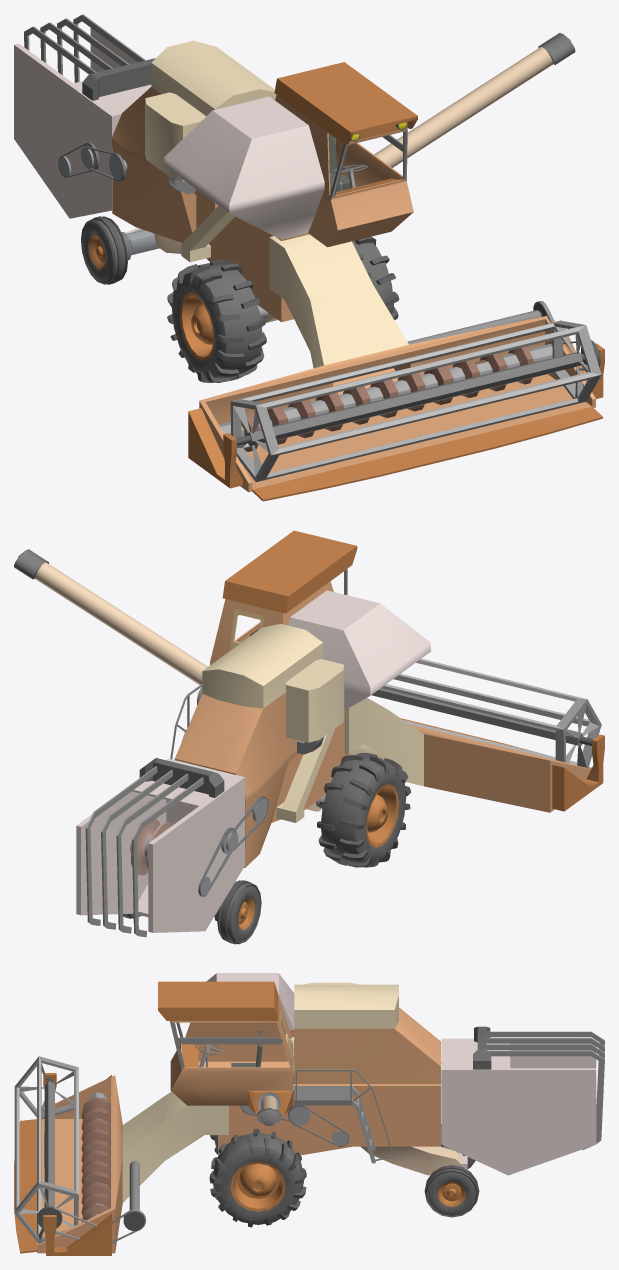
File: Harvester.gltf
The picture shows the model from 3 angles, top to bottom: view 1: azimuth 30°, elevation 25°; view 2: azimuth 150°, elevation 25°; view 3: azimuth 270°, elevation 25°; orthographic projection. The views are drawn at different scales.
Visible parts, largest first — view 1: body, wheel_4, wheel_5, wheel_32, wheel_64, wheel_2; view 2: body, wheel_4, wheel_5, wheel_64, wheel_2; view 3: body, wheel_33, wheel_27, wheel_32, wheel_30, wheel_10, wheel_34.
Boxes of the visible parts, x1,y1,x2,y2 form: body: (14, 14, 604, 501); wheel_4: (185, 264, 262, 378); wheel_5: (171, 273, 226, 378); wheel_32: (352, 240, 393, 313); wheel_64: (82, 222, 113, 282); wheel_2: (182, 296, 212, 357); body: (14, 530, 604, 937); wheel_4: (321, 756, 393, 865); wheel_5: (355, 765, 406, 865); wheel_64: (231, 885, 259, 941); wheel_2: (368, 786, 396, 844); body: (14, 973, 604, 1255); wheel_33: (215, 1146, 301, 1224); wheel_27: (427, 1171, 476, 1215); wheel_32: (212, 1132, 303, 1199); wheel_30: (233, 1175, 282, 1208); wheel_10: (15, 1184, 78, 1243); wheel_34: (230, 1161, 285, 1211).
Size of the model in its own units: 10.83 by 5.88 by 14.55.
1 material, 1 textured.
